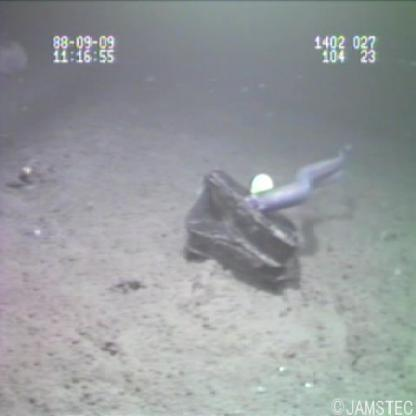Bio: (241, 138, 361, 223)
Rác: (177, 161, 308, 297)
